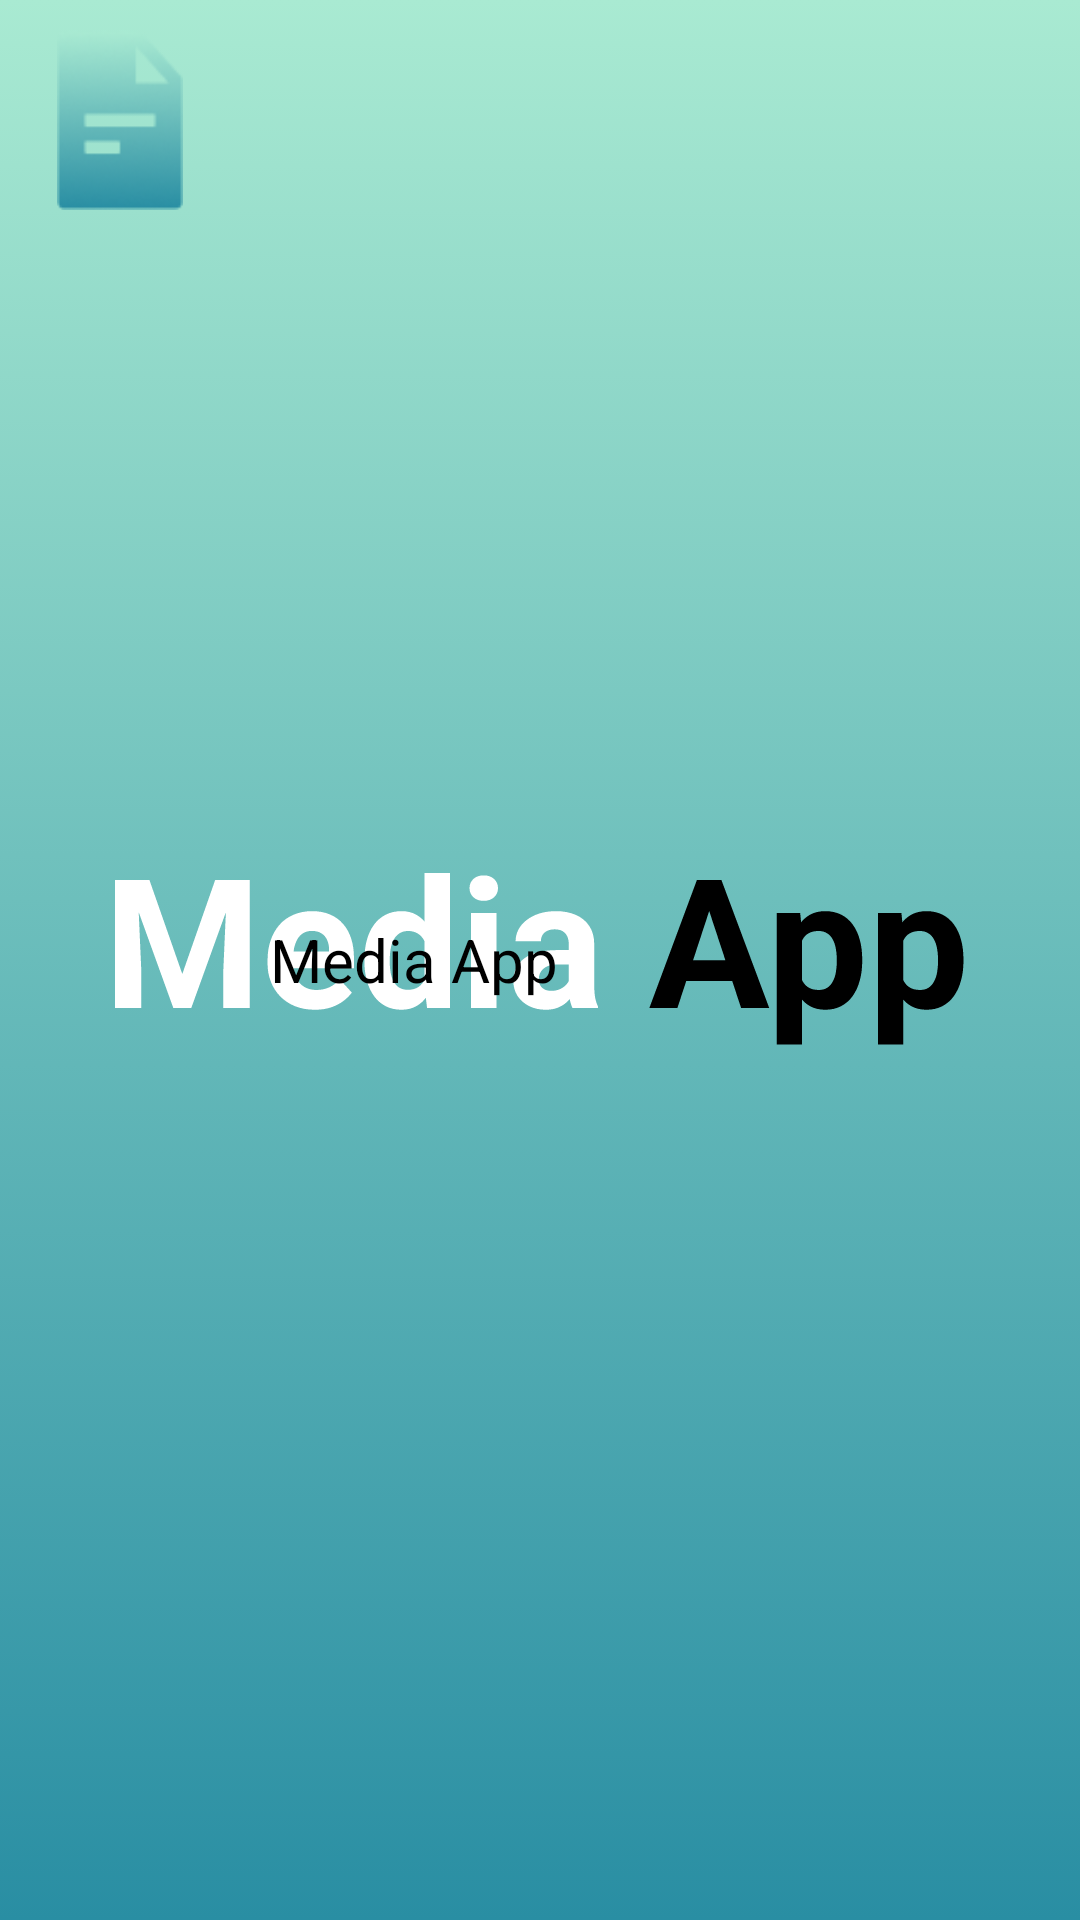

Point at icon controls on the screen. Image size 1080*1920, points as [x,y].
file: [120,146]
